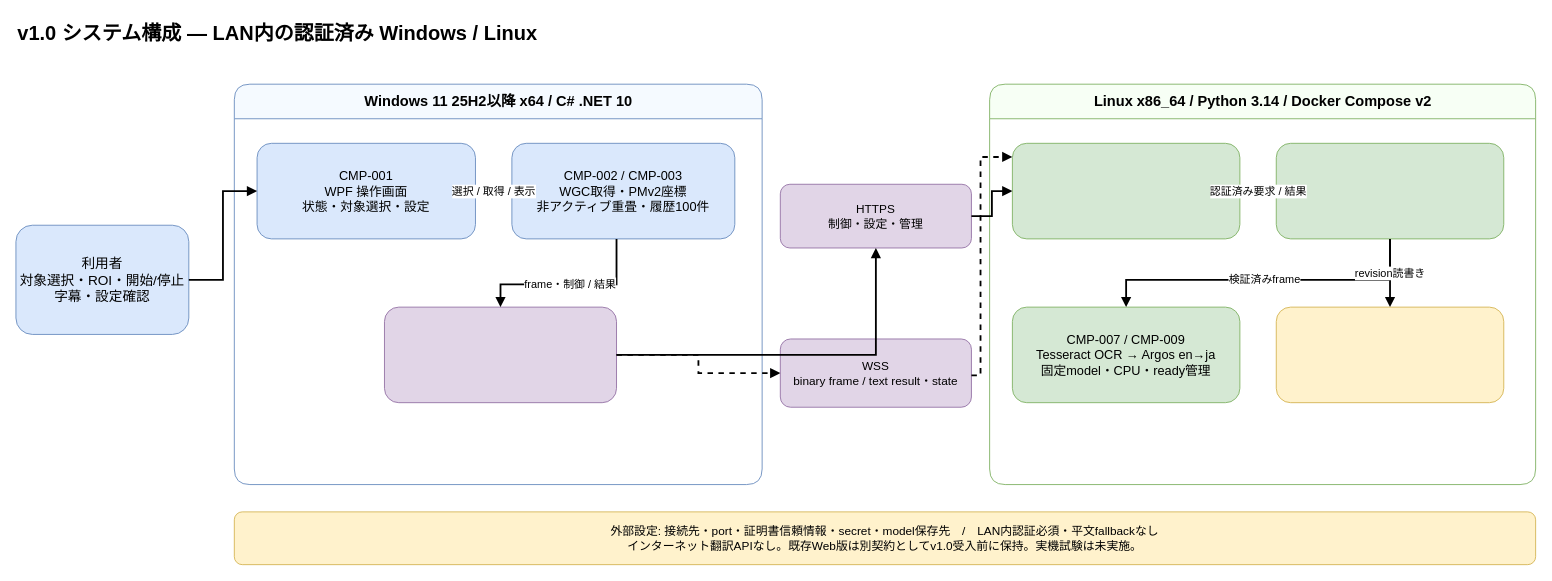
Image size: 1552x581. Some labels were removed from this diagram. The centre of each missing label's shape, as x and y in pixels:
CMP-004 HTTPS / WSS クライアント DPAPI保護の端末token: (x=500, y=354)
CMP-005 HTTPS API / TLS 1.2+ 認証・入力制限・role検査: (x=1125, y=190)
CMP-006 単一session調停者 処理1 / 待機最新1: (x=1389, y=190)
CMP-008 設定・辞書revision JSON 別volume / atomic replace: (x=1389, y=354)
